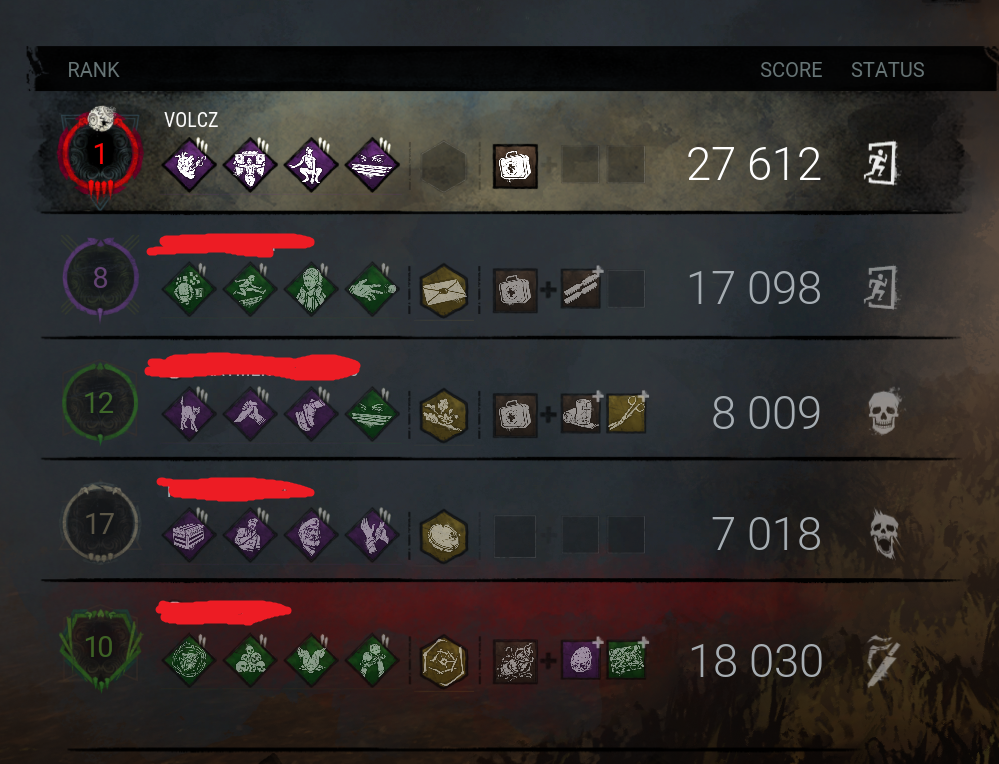adrenaline: (160, 137, 216, 193)
decisive_strike: (223, 385, 279, 441)
detectives_hunch: (161, 261, 217, 317)
diversion: (345, 261, 401, 317)
forced_penance: (347, 633, 403, 689)
head_on: (223, 137, 279, 193)
inner_healing: (284, 261, 340, 317)
lithe: (223, 261, 279, 317)
no_one_escapes_death: (222, 632, 278, 688)
plunderers_instinct: (161, 507, 217, 563)
quick_and_quiet: (283, 136, 339, 192)
self_care: (346, 507, 402, 563)
sloppy_butcher: (284, 633, 340, 689)
spine_chill: (161, 385, 217, 441)
sprint_burst: (284, 385, 340, 441)
tenacity: (224, 507, 280, 563)
trail_of_torment: (160, 632, 216, 688)
unbreakable: (285, 508, 341, 564)
windows_of_opportunity: (345, 136, 401, 192), (344, 387, 400, 443)
